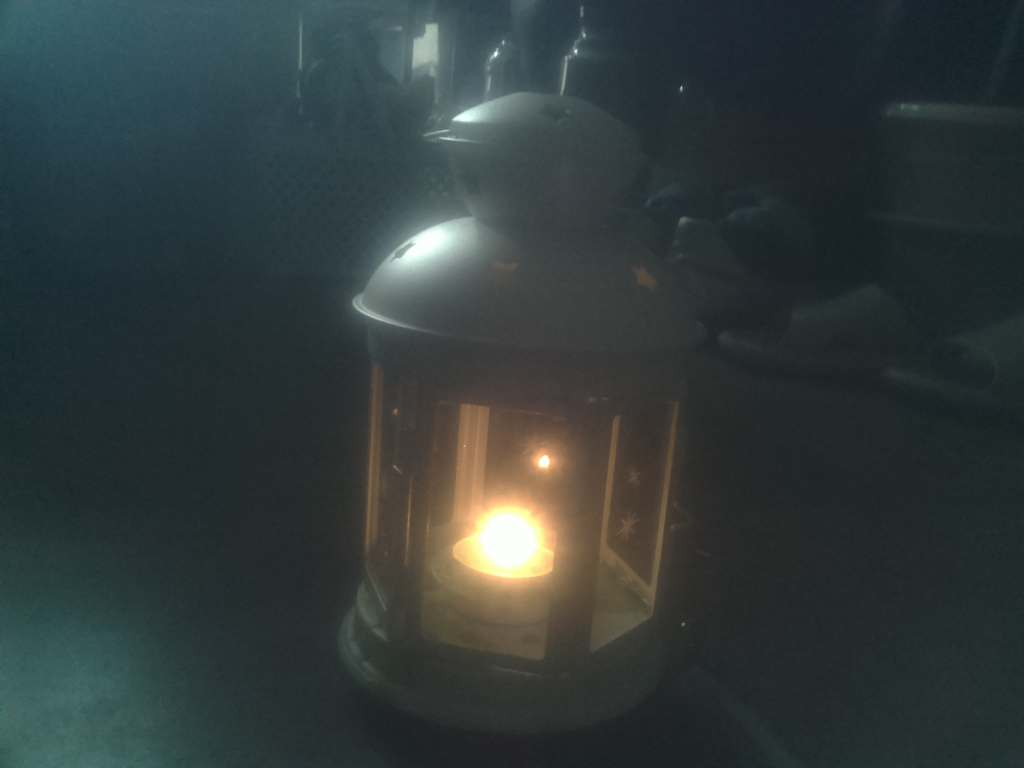fire: (452, 491, 553, 598)
